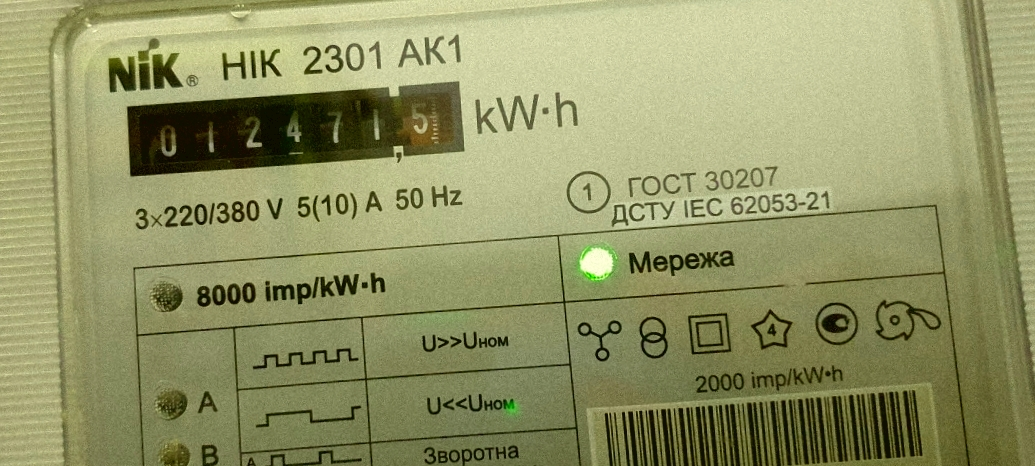0: (155, 120, 180, 158)
1: (203, 118, 217, 154), (369, 105, 381, 141)
2: (242, 112, 264, 150)
4: (283, 107, 304, 144)
5: (408, 97, 431, 136)
7: (322, 106, 345, 146)
screen: (115, 71, 477, 185)
